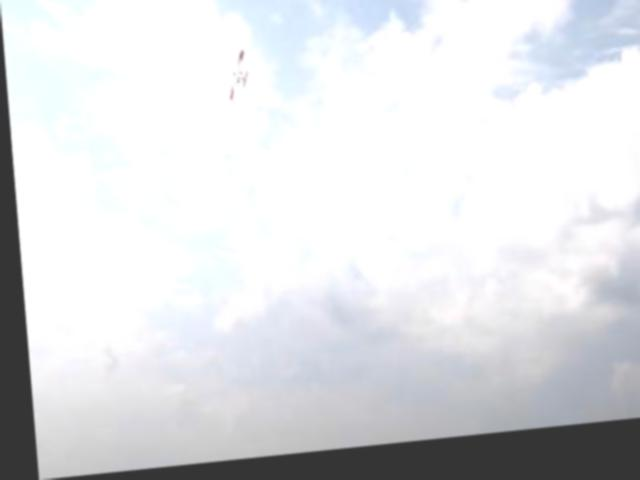uav: (221, 42, 256, 113)
